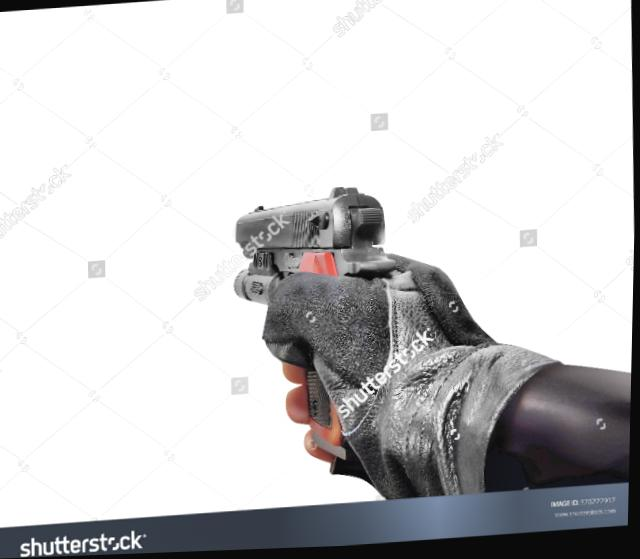pistol: (226, 184, 402, 468)
